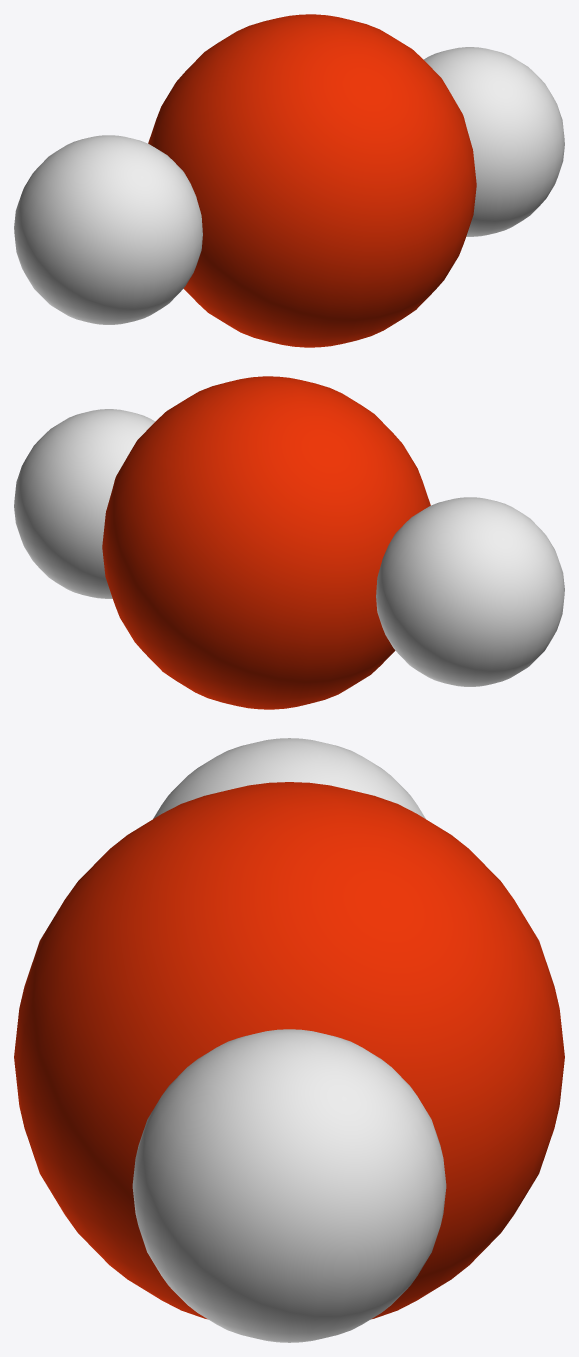
The model's file is h2oodelatom.gltf.
The picture shows the model from 3 angles, top to bottom: view 1: azimuth 30°, elevation 25°; view 2: azimuth 150°, elevation 25°; view 3: azimuth 270°, elevation 25°; orthographic projection. The views are drawn at different scales.
Parts seen in each view (by area): view 1: Sphere, Sphere.002, Sphere.001; view 2: Sphere, Sphere.002, Sphere.001; view 3: Sphere, Sphere.001, Sphere.002.
Boxes of the visible parts, <box> form: Sphere: <box>148,14,476,347</box>; Sphere.002: <box>14,135,202,324</box>; Sphere.001: <box>423,47,564,236</box>; Sphere: <box>102,376,430,709</box>; Sphere.002: <box>376,497,564,686</box>; Sphere.001: <box>14,409,155,598</box>; Sphere: <box>14,782,564,1319</box>; Sphere.001: <box>132,1029,446,1342</box>; Sphere.002: <box>153,738,425,818</box>.
Bounding box in the file's own units: 3.64 × 2 × 2.
